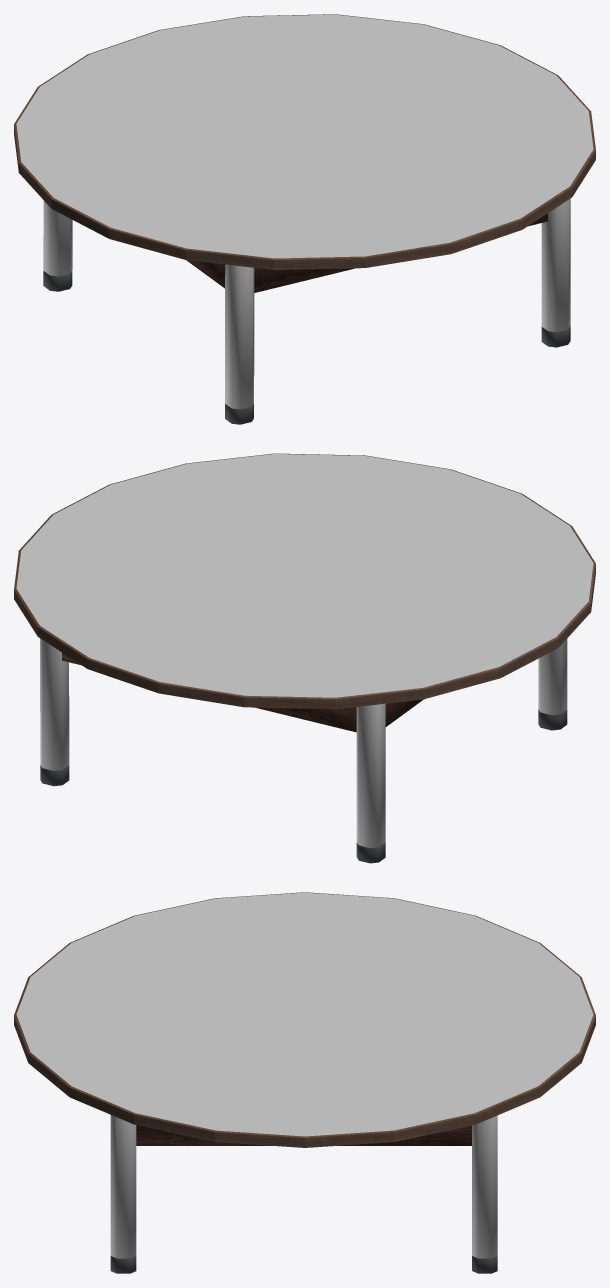
The model's file is jov_table01a.fbx.
The picture shows the model from 3 angles, top to bottom: view 1: azimuth 30°, elevation 25°; view 2: azimuth 150°, elevation 25°; view 3: azimuth 270°, elevation 25°; orthographic projection.
Parts seen in each view (by area): view 1: jov_table01a; view 2: jov_table01a; view 3: jov_table01a.
Boxes of the visible parts, x1,y1,x2,y2 form: jov_table01a: (14, 14, 595, 424); jov_table01a: (14, 453, 595, 863); jov_table01a: (14, 892, 595, 1273).
Size of the model in its own units: 112 by 37.57 by 112.
